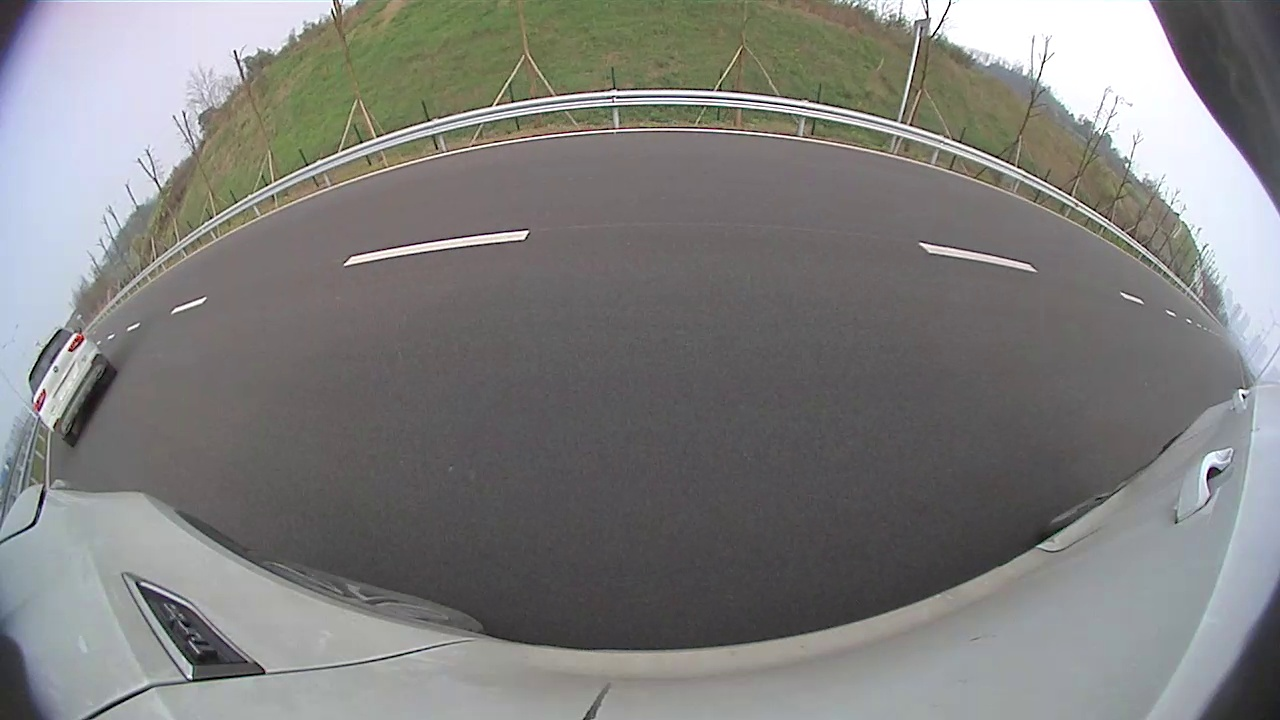car: (948, 144, 1133, 331)
front: (1090, 296, 1123, 330)
rear: (1033, 263, 1074, 309)
